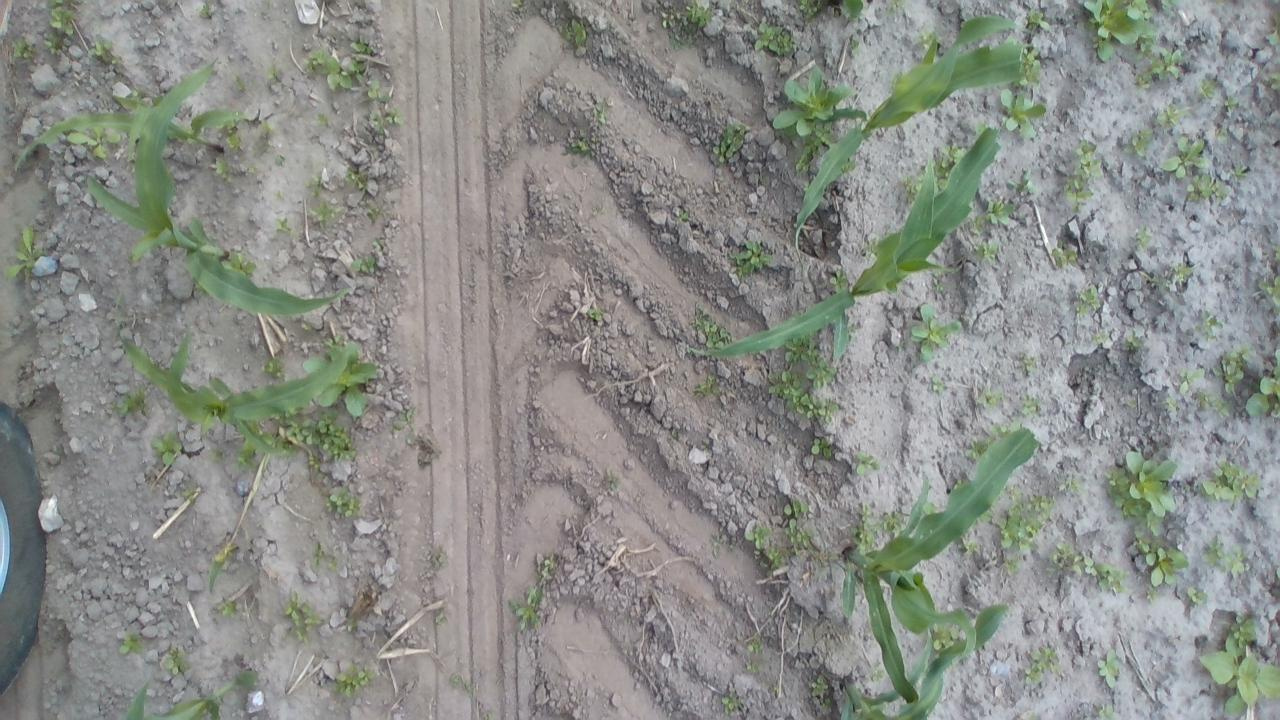Maize: (691, 127, 1003, 356), (87, 58, 352, 314), (841, 429, 1038, 720), (789, 12, 1029, 250), (106, 292, 346, 453), (839, 602, 1010, 720), (15, 92, 252, 172), (120, 670, 258, 720)
Weeds: (773, 64, 868, 144), (1198, 630, 1280, 712), (1104, 450, 1178, 536), (303, 341, 377, 416), (766, 360, 842, 424), (1082, 0, 1159, 62), (270, 406, 356, 461), (1062, 138, 1104, 213), (1132, 529, 1188, 585), (910, 303, 962, 363), (660, 0, 717, 52), (1198, 460, 1260, 502), (1244, 348, 1280, 417), (999, 88, 1048, 138), (4, 225, 44, 281), (997, 502, 1041, 550), (283, 592, 323, 644), (1160, 136, 1212, 176), (1134, 46, 1180, 90), (1082, 555, 1130, 595), (42, 0, 76, 56), (932, 143, 969, 194), (67, 126, 121, 160), (1212, 344, 1250, 392), (968, 199, 1014, 236), (693, 306, 731, 350), (1202, 538, 1246, 576), (730, 238, 771, 277), (508, 586, 542, 632), (332, 664, 374, 698), (713, 123, 747, 165), (754, 22, 795, 56), (784, 330, 822, 366), (1013, 43, 1043, 88), (110, 384, 150, 417), (850, 505, 876, 554), (1025, 650, 1060, 684), (1186, 175, 1230, 202), (152, 430, 184, 466), (1046, 543, 1082, 575), (931, 621, 959, 659), (784, 520, 814, 555), (308, 198, 343, 228), (325, 488, 361, 517), (1122, 127, 1156, 157), (368, 106, 404, 134), (324, 56, 352, 90), (1195, 310, 1223, 344), (1074, 284, 1102, 318), (760, 546, 790, 577), (1257, 274, 1280, 314), (1196, 391, 1230, 418), (1096, 648, 1120, 686), (793, 144, 822, 175), (1156, 102, 1186, 130), (223, 250, 255, 276), (900, 172, 924, 206), (565, 129, 595, 156), (261, 430, 296, 452), (876, 509, 904, 536), (164, 646, 190, 675), (561, 18, 587, 46), (1228, 616, 1256, 642), (258, 354, 286, 380), (1052, 240, 1078, 268), (693, 373, 720, 399), (1007, 168, 1034, 194), (1030, 494, 1055, 522), (258, 117, 276, 155), (1178, 368, 1204, 394), (973, 240, 1000, 265), (964, 438, 994, 460), (745, 526, 772, 550), (217, 122, 240, 150), (118, 632, 146, 655), (976, 387, 1004, 410), (988, 420, 1022, 438), (1025, 8, 1051, 31), (303, 50, 327, 74), (366, 78, 390, 102), (838, 0, 865, 21), (236, 438, 254, 469), (1019, 395, 1042, 419), (856, 452, 880, 474), (798, 0, 822, 22), (86, 37, 112, 57), (348, 55, 367, 82), (392, 406, 414, 429), (11, 38, 34, 60), (1173, 261, 1194, 285), (830, 268, 849, 294), (352, 255, 378, 274), (305, 172, 324, 198), (214, 156, 231, 184), (784, 500, 809, 519), (538, 555, 556, 581), (344, 167, 365, 189), (810, 675, 830, 698), (1132, 227, 1152, 249), (349, 35, 372, 54), (862, 237, 880, 261), (1057, 478, 1084, 494), (1095, 702, 1118, 720), (722, 690, 739, 714), (1268, 12, 1280, 46), (449, 675, 474, 691), (864, 662, 884, 682), (1186, 586, 1208, 604), (1198, 77, 1216, 98), (812, 438, 832, 456), (593, 100, 608, 124), (1124, 330, 1142, 350), (958, 539, 978, 556), (918, 28, 935, 48), (884, 0, 906, 15), (848, 35, 863, 57), (312, 540, 324, 566), (606, 468, 620, 490), (1088, 330, 1108, 345), (1004, 556, 1020, 574), (1229, 165, 1248, 180), (1022, 352, 1036, 372), (747, 637, 763, 654), (364, 202, 378, 221), (1006, 485, 1022, 501), (197, 3, 213, 19), (221, 600, 236, 617), (182, 484, 196, 502), (930, 374, 944, 392), (1224, 98, 1240, 113), (931, 270, 943, 290), (232, 74, 246, 91), (1142, 272, 1159, 286), (922, 502, 938, 516), (588, 308, 604, 322), (978, 506, 992, 522), (1269, 70, 1280, 90), (846, 324, 858, 342), (841, 159, 856, 173), (323, 335, 344, 345), (130, 86, 145, 100), (346, 616, 358, 633), (276, 218, 290, 232), (433, 550, 447, 564), (1146, 588, 1159, 603), (1159, 0, 1180, 9), (974, 122, 988, 135), (1163, 397, 1177, 410), (268, 66, 280, 81), (1271, 243, 1280, 262), (434, 612, 448, 624), (314, 113, 329, 124), (891, 72, 902, 87), (193, 283, 206, 295), (308, 456, 320, 469), (1216, 128, 1228, 141), (745, 662, 760, 672), (679, 209, 690, 222), (372, 236, 382, 250), (152, 96, 164, 107), (210, 448, 220, 460), (327, 558, 337, 570), (820, 698, 830, 710), (1004, 36, 1018, 44), (953, 478, 963, 489), (110, 54, 121, 64), (510, 0, 523, 8), (274, 155, 284, 165), (710, 535, 720, 545), (668, 428, 677, 439), (300, 322, 312, 330), (753, 549, 761, 559), (758, 174, 766, 184), (248, 166, 258, 174), (802, 180, 809, 191), (1128, 400, 1138, 406), (1275, 567, 1280, 578), (773, 684, 779, 693)
